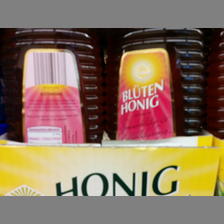honey: (3, 28, 104, 141), (108, 29, 205, 139)
